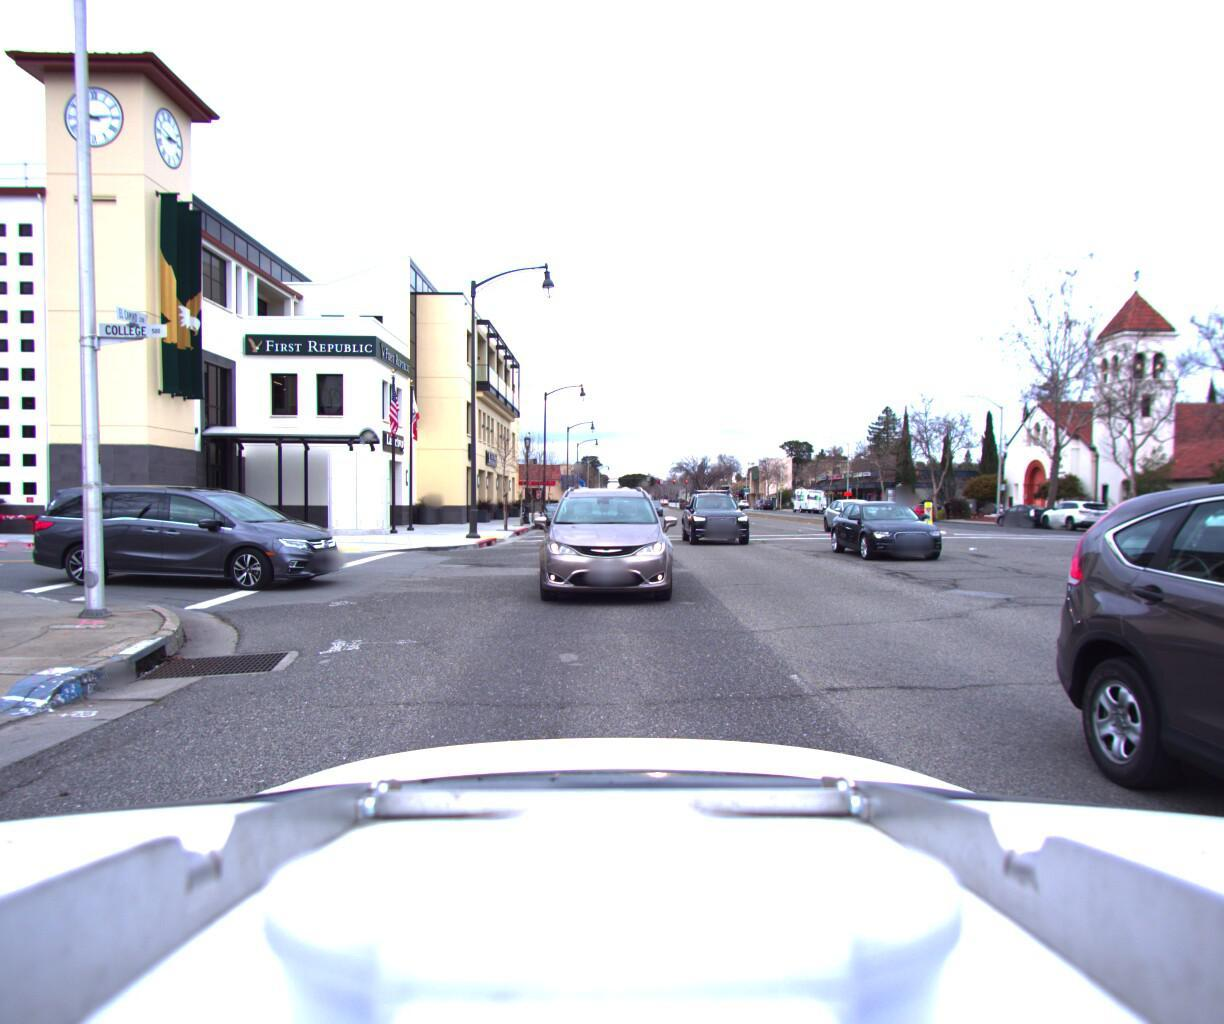car: (19, 480, 352, 590), (511, 481, 686, 621), (834, 499, 973, 565), (683, 484, 757, 546), (1105, 498, 1206, 538), (1029, 496, 1109, 530), (821, 495, 889, 532), (1177, 499, 1224, 542), (987, 500, 1055, 526), (534, 498, 572, 526), (646, 501, 670, 520)
